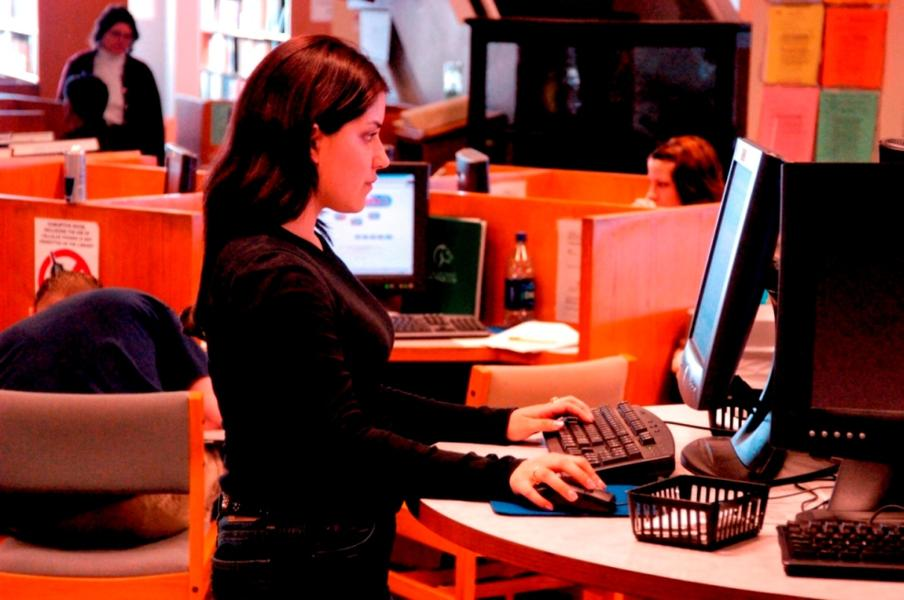person: (193, 31, 611, 600)
